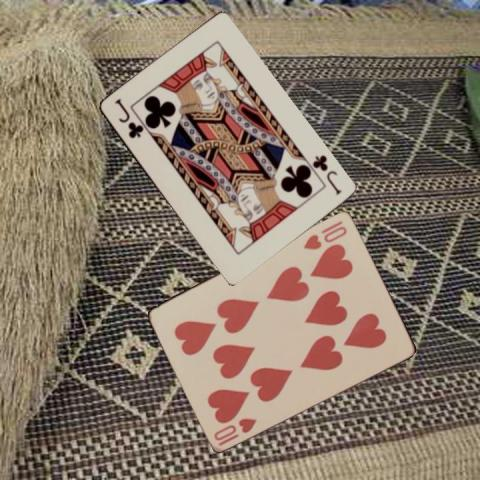10h: (300, 216, 348, 250), (211, 415, 258, 447)
Jc: (308, 151, 342, 197), (111, 96, 143, 140)
